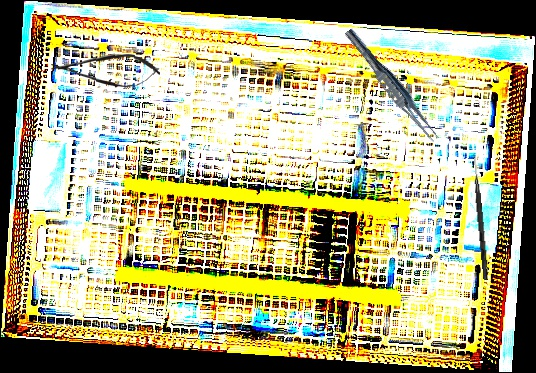Hook Surgical: (470, 154, 490, 280)
Micro Scissor: (50, 50, 161, 90)
Tissue Forceps: (339, 25, 445, 146)
